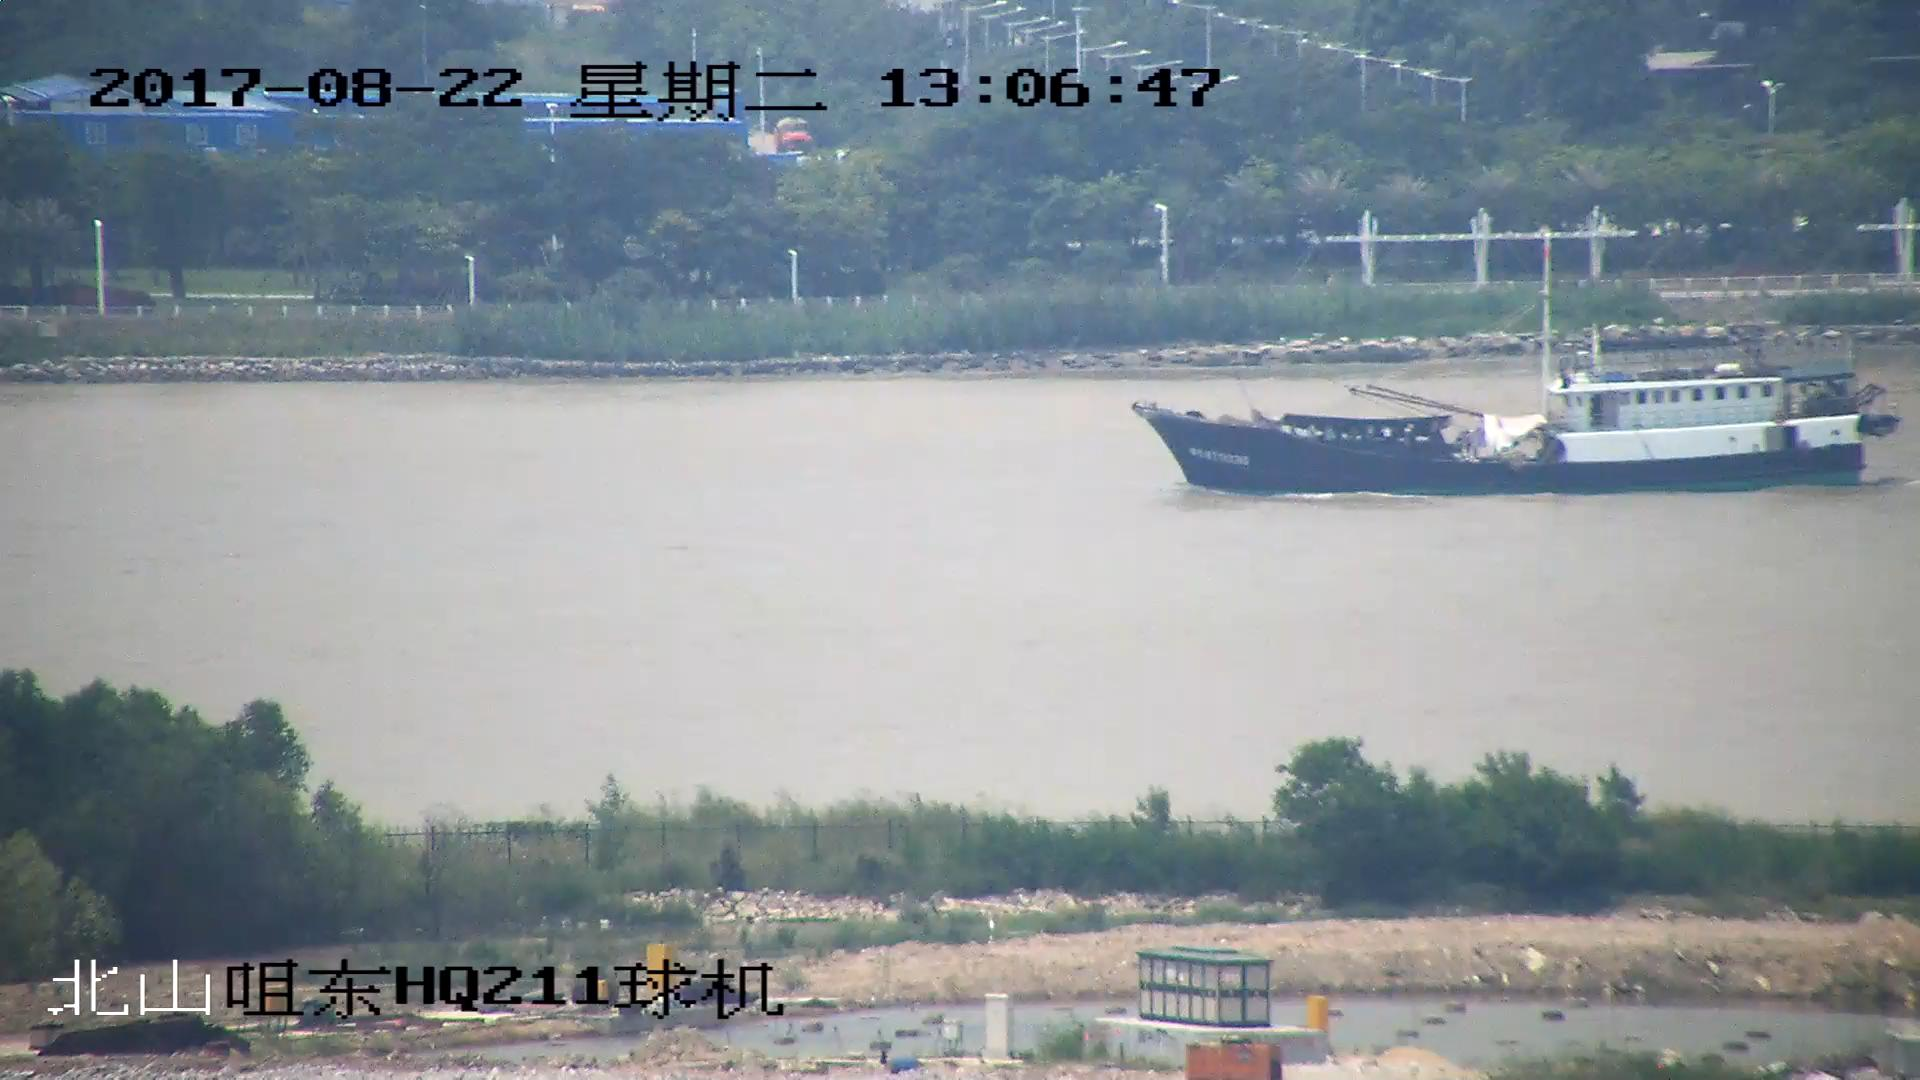fishing boat: (1132, 236, 1899, 493)
